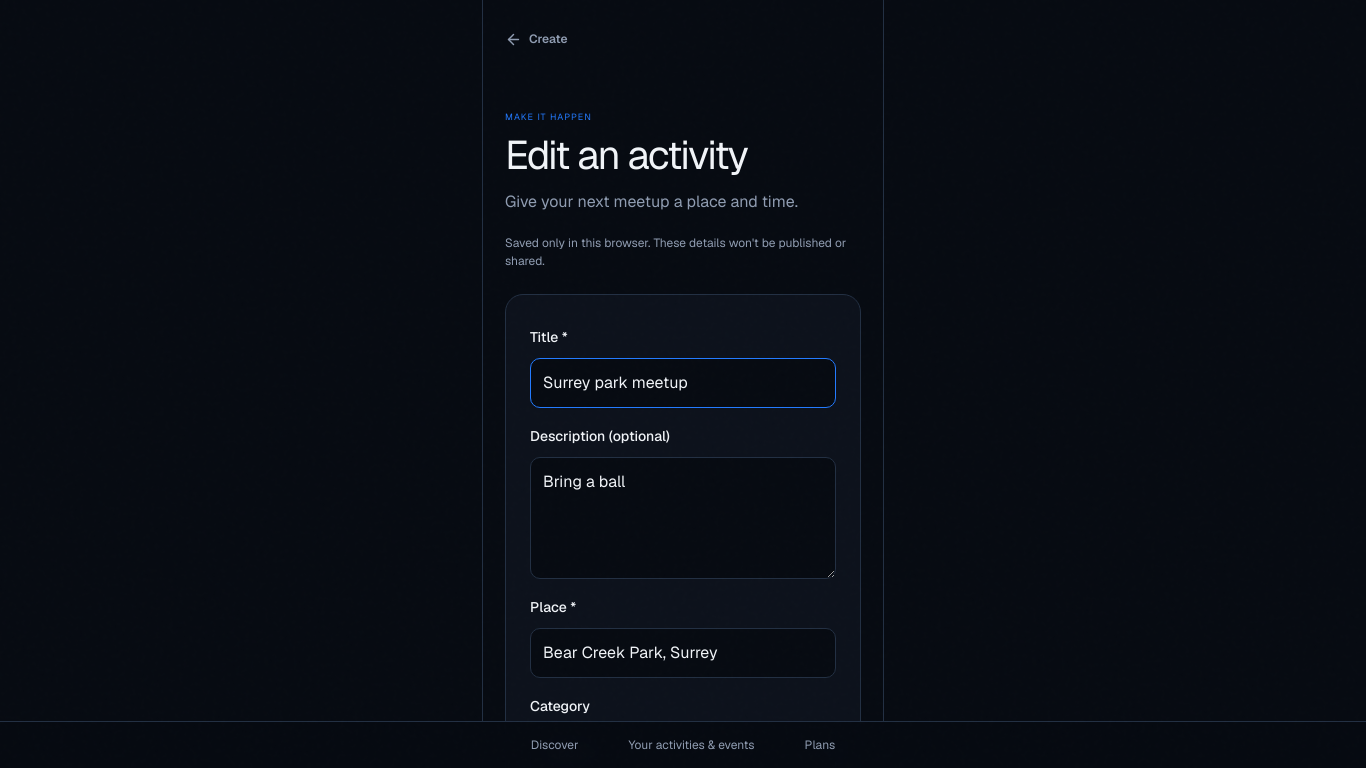
Scenario: editing replaces the saved item and retains its identity
Replace the text in the field labelled "Title *" with "Updated meetup": (683, 382) left=530, top=358, right=836, bottom=408
(page scrolled)
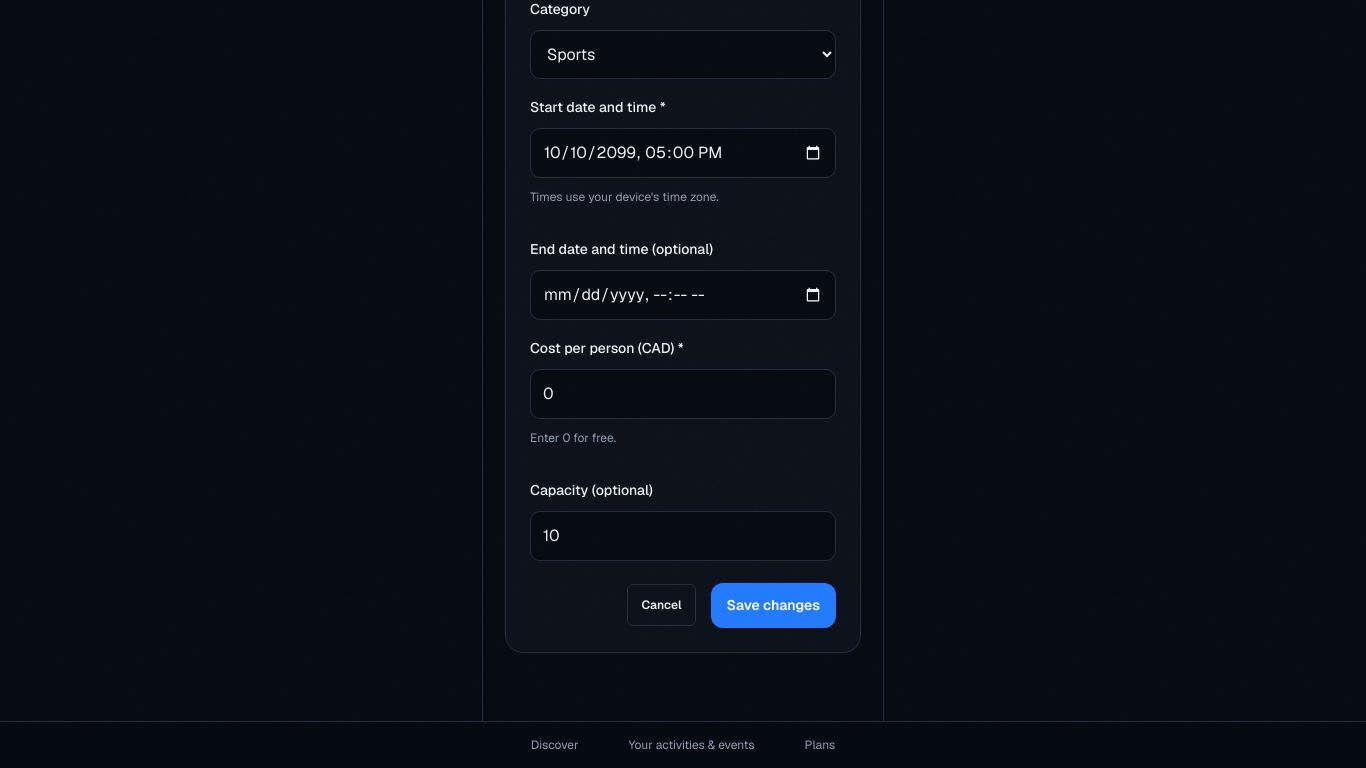
Click the button "Save changes": (773, 605) left=710, top=582, right=836, bottom=628
(page scrolled)
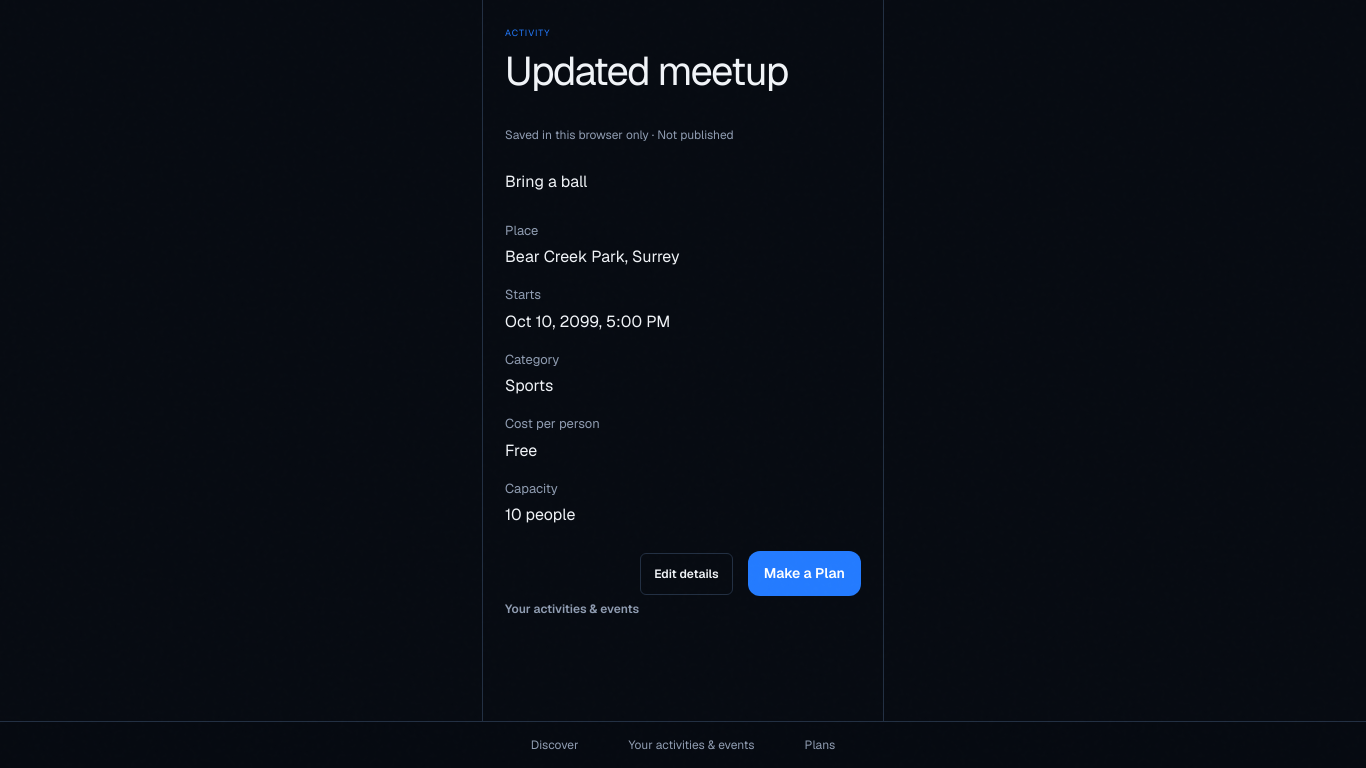
expect the heading "Updated meetup" is shown: met, box left=505, top=48, right=788, bottom=94
